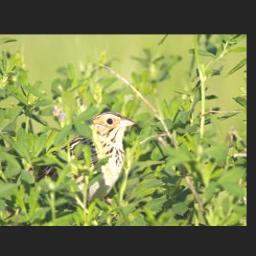Sparrow: (29, 110, 138, 213)
